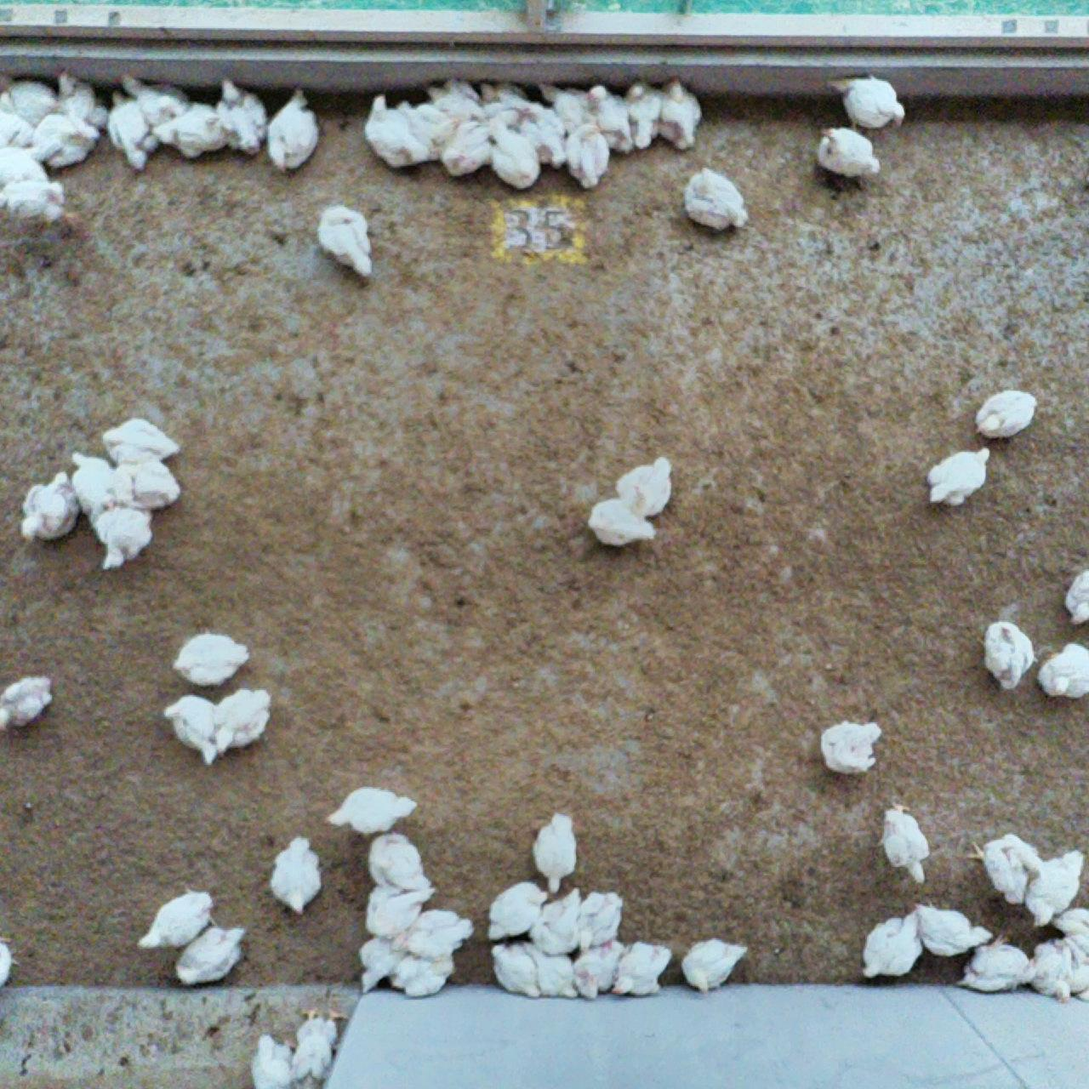chicken: (313, 769, 422, 837), (912, 436, 1000, 519), (310, 194, 384, 287), (261, 825, 329, 926), (867, 795, 941, 885), (96, 408, 190, 476), (915, 901, 1000, 975), (263, 77, 324, 180), (285, 999, 352, 1089), (214, 70, 278, 164), (135, 882, 222, 951), (171, 918, 255, 988), (971, 610, 1040, 695), (356, 822, 432, 899), (670, 156, 749, 230), (800, 121, 891, 185), (824, 59, 909, 127), (168, 622, 261, 684), (968, 816, 1035, 902), (90, 499, 165, 575), (17, 466, 84, 549), (526, 799, 585, 893), (356, 84, 422, 167), (613, 438, 692, 505), (475, 881, 555, 947), (351, 870, 425, 941), (813, 712, 889, 781), (648, 67, 709, 152), (583, 487, 664, 550), (24, 102, 101, 167), (0, 659, 61, 741), (163, 691, 227, 768), (389, 931, 455, 1004), (579, 76, 641, 153), (107, 83, 159, 174), (107, 454, 184, 515), (962, 921, 1028, 991), (491, 934, 554, 1007), (560, 113, 617, 193), (116, 71, 192, 130), (488, 119, 544, 197), (862, 911, 924, 979), (579, 884, 641, 951), (215, 681, 283, 741), (1034, 840, 1089, 913), (0, 177, 70, 232), (970, 385, 1047, 434), (576, 932, 626, 1007), (520, 942, 582, 1002), (686, 934, 751, 991), (63, 438, 116, 507), (398, 95, 456, 158), (537, 884, 593, 948), (404, 901, 475, 951), (422, 73, 480, 133), (0, 62, 56, 124), (435, 131, 495, 188), (242, 1023, 293, 1089), (616, 941, 673, 1000), (519, 100, 570, 165), (621, 72, 661, 153), (58, 70, 111, 130), (1040, 645, 1089, 708), (356, 927, 401, 985), (0, 77, 37, 145), (1033, 937, 1069, 1004), (0, 144, 51, 189), (476, 77, 533, 117), (538, 73, 588, 117), (1052, 904, 1089, 959), (1058, 561, 1089, 618), (0, 936, 21, 995), (1061, 956, 1089, 1000)
